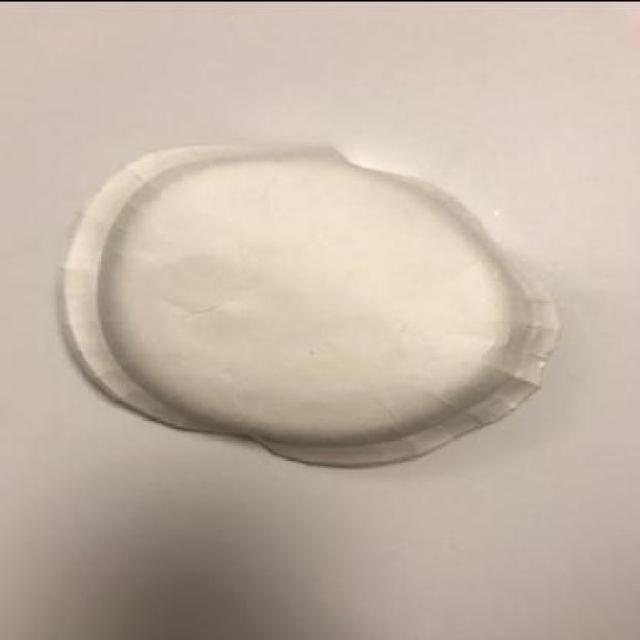PAPER: (60, 138, 558, 465)
